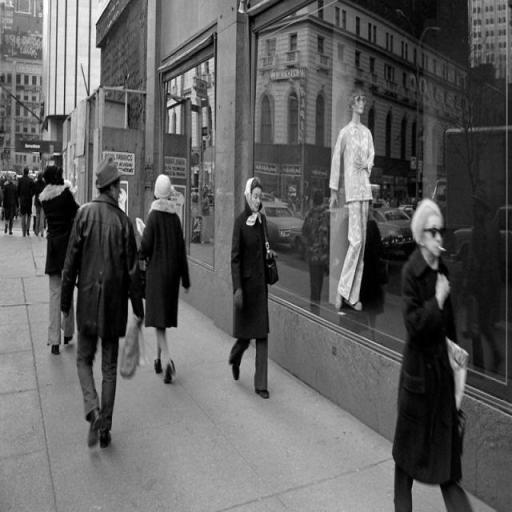person: (394, 196, 473, 512), (62, 162, 131, 449), (226, 177, 281, 404), (137, 175, 192, 389), (330, 84, 377, 316), (38, 160, 79, 358), (467, 186, 506, 381), (303, 189, 333, 315), (19, 166, 35, 239), (33, 171, 47, 238), (3, 179, 17, 238)
